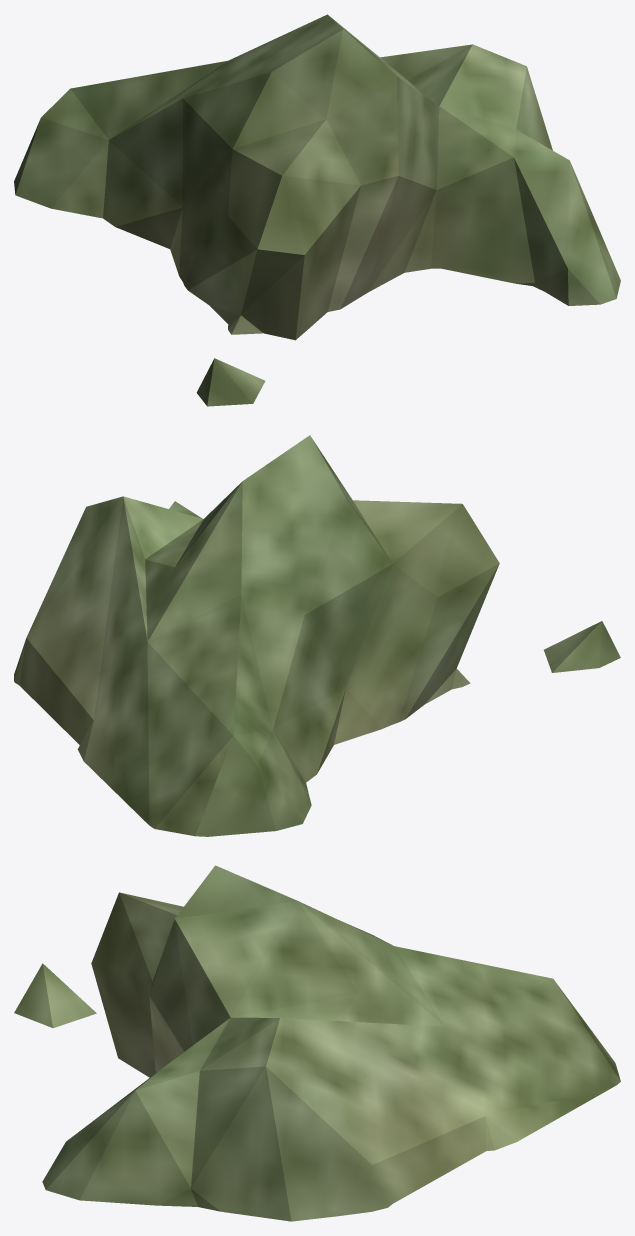
3 views of the same model, one above another, from view 1: azimuth 30°, elevation 25°; view 2: azimuth 150°, elevation 25°; view 3: azimuth 270°, elevation 25° (orthographic). The views are drawn at different scales.
Bounding box in the file's own units: 2.03 × 1 × 2.31.
1 material, 1 textured.
